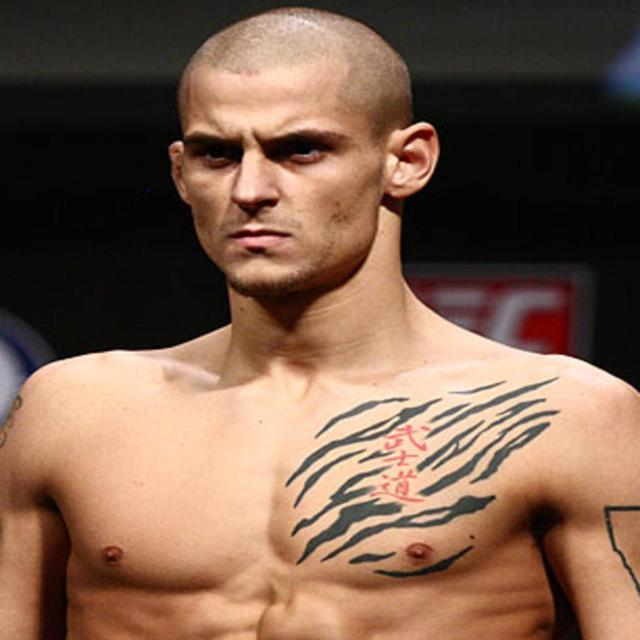no_helmet: (161, 0, 451, 138)
